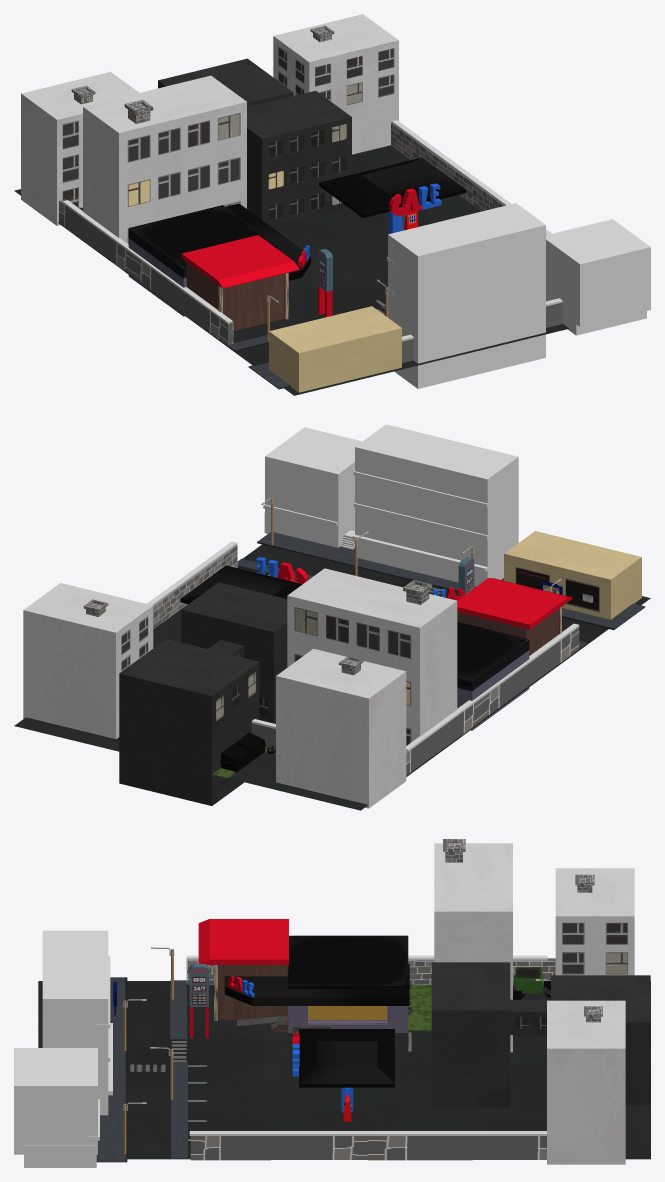
File: world.glb
3 renders of one model, top to bottom at view 1: azimuth 30°, elevation 25°; view 2: azimuth 150°, elevation 25°; view 3: azimuth 270°, elevation 25°, orthographic. The views are drawn at different scales.
Parts seen in each view (by area): view 1: building3, big, floor, building3.002, building3.006, LeftMain, building3.003, building, gasstation.004, TheRoof, gasstation.003, gasstoff (+13 smaller); view 2: building3, building3.005, building3.003, big, building3.006, LeftMain, building, building3.002, floor, gasstation.004, gasstation.003, pavement2.001 (+16 smaller); view 3: floor, building3.006, building3.002, gasstation.004, big, building3, building3.003, LeftMain, TheRoof, building3.005, gasstation.003, gasstroof (+16 smaller).
Part boxes in pixels (x1=…): building3: x1=388, y1=203, x2=545, y2=388; big: x1=83, y1=75, x2=246, y2=244; floor: x1=14, y1=145, x2=568, y2=395; building3.002: x1=247, y1=90, x2=351, y2=225; building3.006: x1=273, y1=14, x2=398, y2=154; LeftMain: x1=546, y1=219, x2=650, y2=326; building3.003: x1=21, y1=71, x2=139, y2=225; building: x1=269, y1=306, x2=401, y2=392; gasstation.004: x1=128, y1=205, x2=277, y2=316; TheRoof: x1=319, y1=157, x2=466, y2=217; gasstation.003: x1=181, y1=235, x2=299, y2=288; gasstoff: x1=186, y1=262, x2=284, y2=330; building3: x1=355, y1=424, x2=518, y2=586; building3.005: x1=119, y1=639, x2=259, y2=805; building3.003: x1=276, y1=648, x2=406, y2=808; big: x1=287, y1=568, x2=457, y2=743; building3.006: x1=23, y1=583, x2=153, y2=738; LeftMain: x1=265, y1=427, x2=362, y2=538; building: x1=504, y1=531, x2=641, y2=619; building3.002: x1=181, y1=582, x2=287, y2=723; floor: x1=14, y1=544, x2=650, y2=810; gasstation.004: x1=457, y1=622, x2=529, y2=730; gasstation.003: x1=457, y1=578, x2=572, y2=629; pavement2.001: x1=257, y1=532, x2=645, y2=629; floor: x1=38, y1=981, x2=650, y2=1159; building3.006: x1=547, y1=1000, x2=625, y2=1164; building3.002: x1=431, y1=962, x2=510, y2=1107; gasstation.004: x1=288, y1=935, x2=408, y2=1032; big: x1=434, y1=843, x2=512, y2=1052; building3: x1=42, y1=930, x2=108, y2=1115; building3.003: x1=555, y1=868, x2=634, y2=975; LeftMain: x1=14, y1=1048, x2=97, y2=1154; TheRoof: x1=299, y1=1029, x2=394, y2=1087; building3.005: x1=551, y1=975, x2=650, y2=1105; gasstation.003: x1=198, y1=919, x2=288, y2=964; gasstroof: x1=224, y1=964, x2=409, y2=1005.
Bounding box in the file's own units: 293 × 138 × 420.
76 materials, 70 textured.
